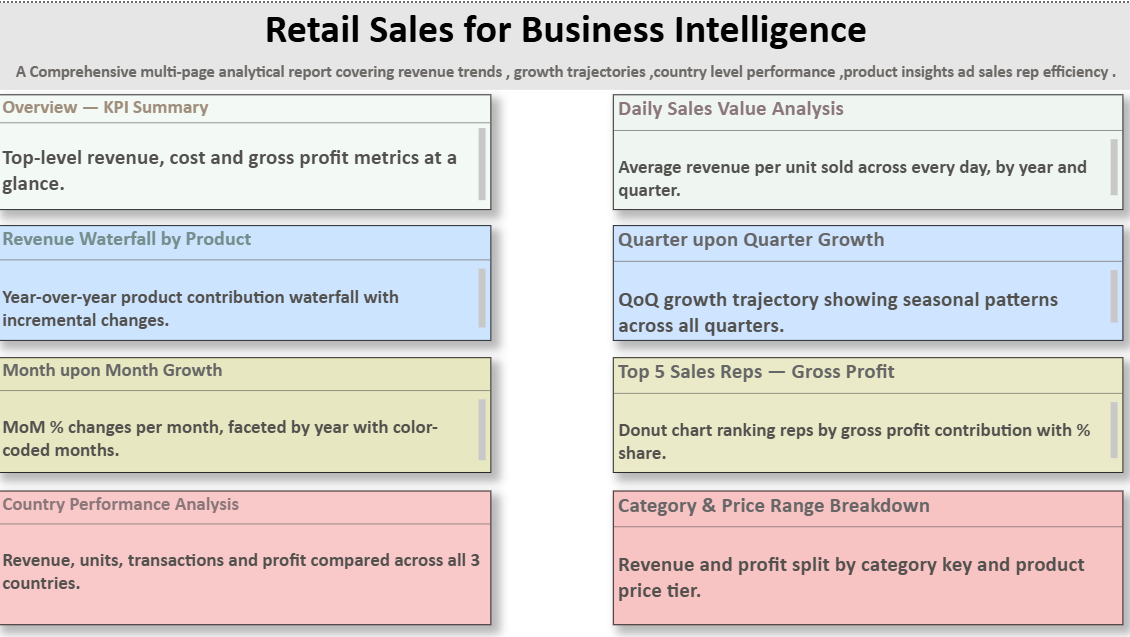

What the dashboard file says about the page in this screenshot:
{"tool":"powerbi","page":{"name":"Introduction","canvas":[1280,720],"ordinal":0},"visuals":[{"type":"textbox","title":"Retail Sales for Business Intelligence","box":[0,0,1280,102.9],"z":0},{"type":"textbox","title":"Overview — KPI Summary","box":[27.1,104.3,555.7,130],"z":1},{"type":"textbox","title":"Revenue Waterfall by Product","box":[27.1,250,555.7,130],"z":2},{"type":"textbox","title":"Month upon Month Growth","box":[27.1,398.6,555.7,130],"z":3},{"type":"textbox","title":"Country Performance Analysis","box":[27.1,548.6,555.7,151.4],"z":4},{"type":"textbox","title":"Daily Sales Value Analysis","box":[651.4,104.3,574.3,130],"z":5},{"type":"textbox","title":"Quarter upon Quarter Growth","box":[651.4,250,574.3,130],"z":6},{"type":"textbox","title":"Top 5 Sales Reps — Gross Profit","box":[651.4,398.6,574.3,130],"z":7},{"type":"textbox","title":"Category & Price Range Breakdown","box":[651.4,548.6,574.3,151.4],"z":8}]}

Visuals, with their boxes in screenshot pixels (x1, y1, x2, y2), scaled from the page's 1280x720 canvas onto the 1130x637 screenshot:
"Retail Sales for Business Intelligence" textbox: pyautogui.locateOnScreen(0, 0, 1129, 91)
"Overview — KPI Summary" textbox: pyautogui.locateOnScreen(24, 92, 515, 207)
"Revenue Waterfall by Product" textbox: pyautogui.locateOnScreen(24, 221, 515, 336)
"Month upon Month Growth" textbox: pyautogui.locateOnScreen(24, 353, 515, 468)
"Country Performance Analysis" textbox: pyautogui.locateOnScreen(24, 485, 515, 619)
"Daily Sales Value Analysis" textbox: pyautogui.locateOnScreen(575, 92, 1082, 207)
"Quarter upon Quarter Growth" textbox: pyautogui.locateOnScreen(575, 221, 1082, 336)
"Top 5 Sales Reps — Gross Profit" textbox: pyautogui.locateOnScreen(575, 353, 1082, 468)
"Category & Price Range Breakdown" textbox: pyautogui.locateOnScreen(575, 485, 1082, 619)
